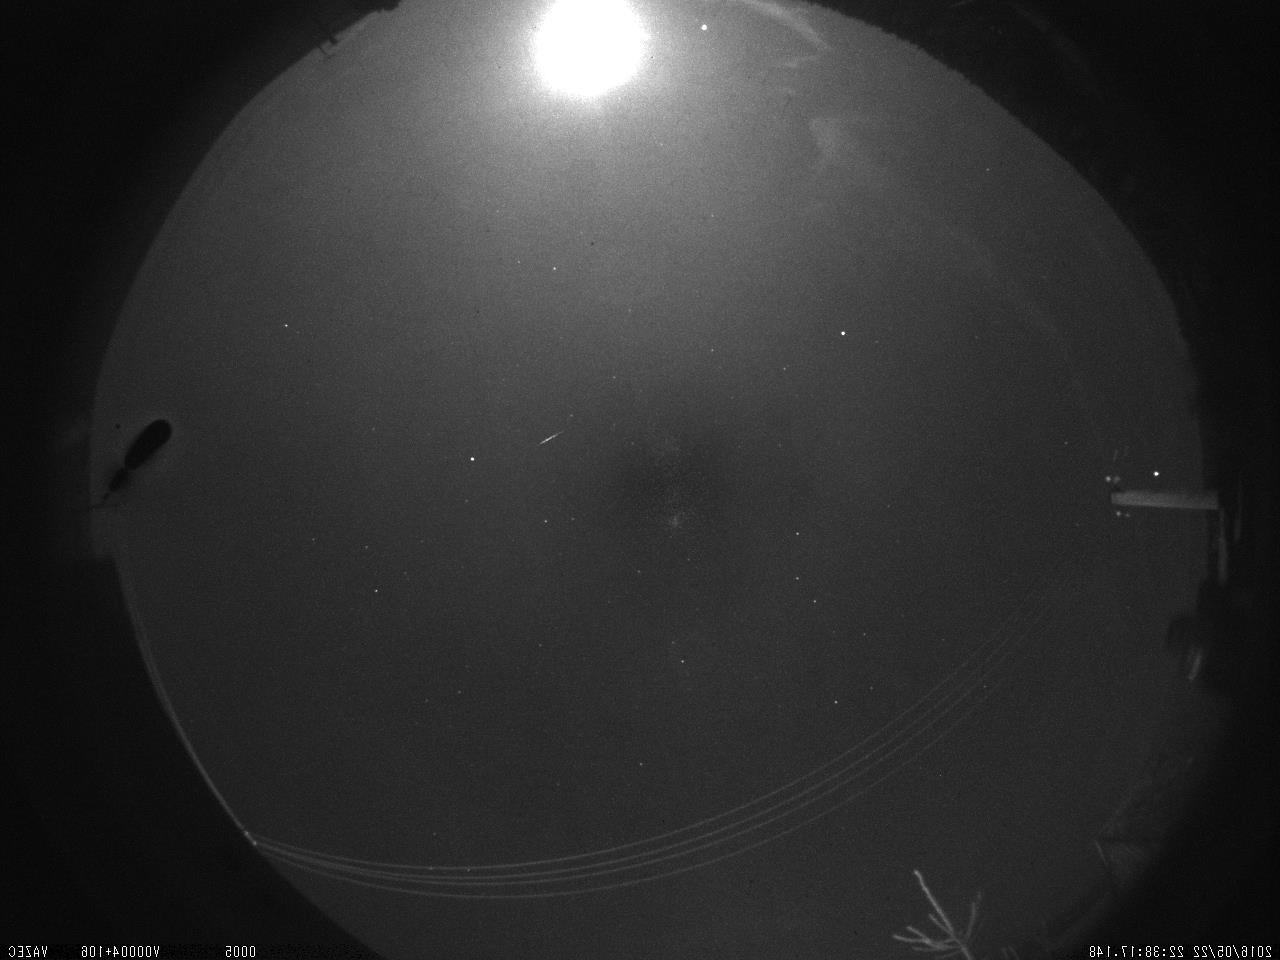meteor: (518, 405, 579, 468)
